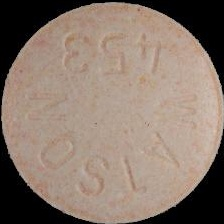0591-0453: (0, 0, 224, 224)
